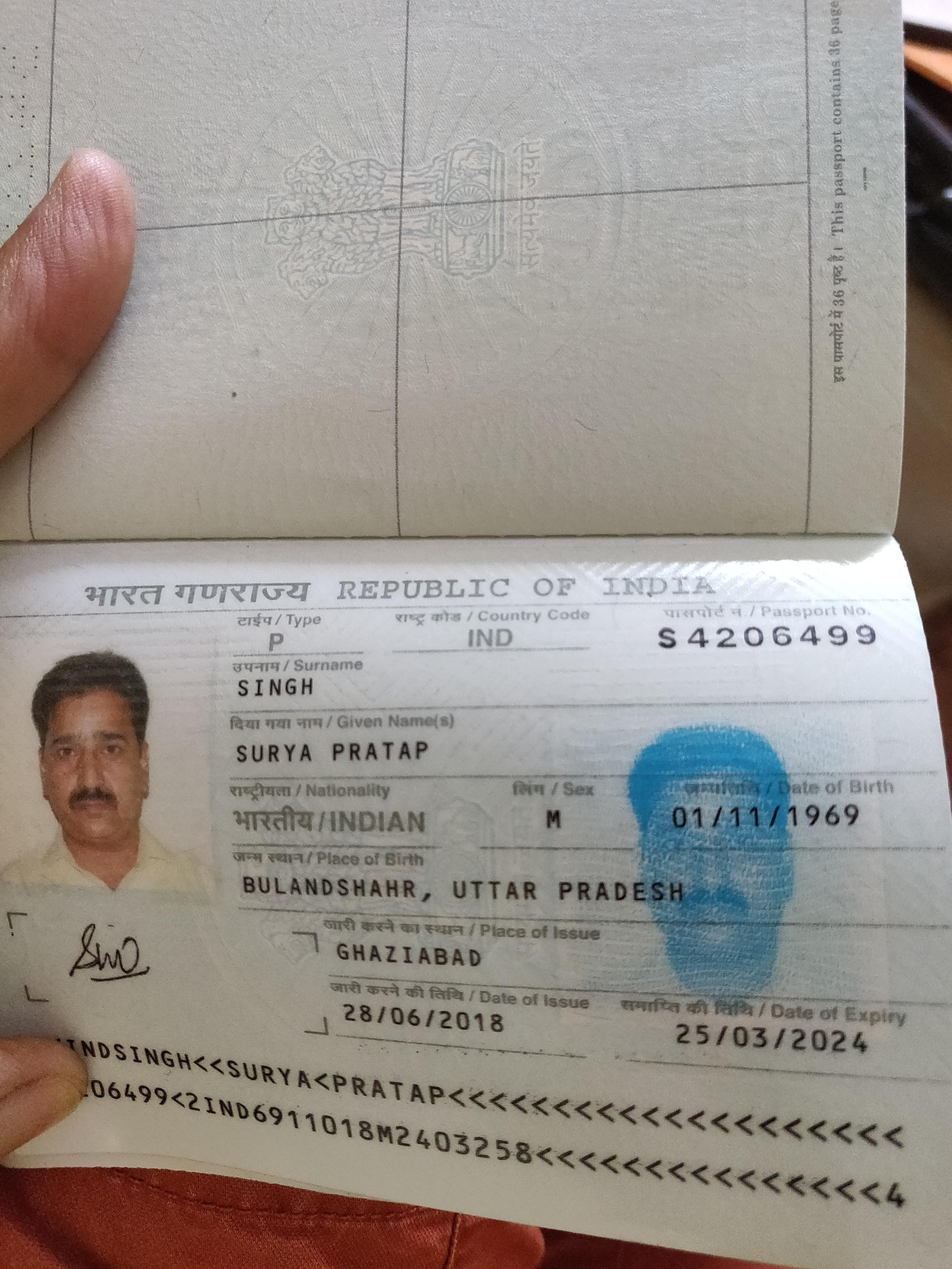DOB: (659, 797, 882, 834)
Surname: (231, 676, 322, 705)
country_code: (463, 621, 519, 652)
date_of_expiry: (666, 1016, 872, 1062)
date_of_issue: (333, 997, 509, 1042)
details: (65, 1025, 916, 1224)
name: (227, 735, 430, 770)
nationality: (227, 804, 431, 840)
passport_no: (645, 621, 884, 662)
photo: (0, 643, 211, 891)
place_of_birth: (240, 874, 697, 912)
place_of_issue: (323, 931, 499, 973)
sex: (522, 803, 574, 839)
sign: (58, 918, 185, 986)
type: (258, 628, 289, 657)
